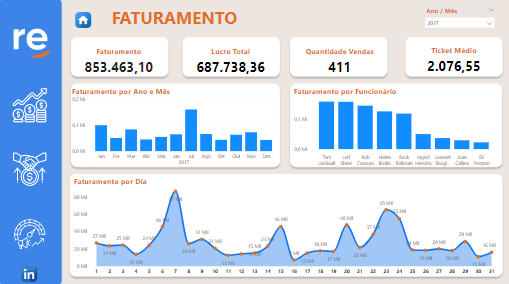

Layout of this report page (visuals, bound fields, positions):
{"tool":"powerbi","page":{"name":"Faturamento","canvas":[1280,720],"ordinal":1},"visuals":[{"type":"areaChart","fields":{"Category":["Dim_Calendario.Data.Variation.Hierarquia de datas.Dia"],"Y":["_Medidas.Faturamento"]},"box":[182.9,440.6,1067,254.9],"z":0},{"type":"slicer","fields":{"Values":["Dim_Calendario.Data.Variation.Hierarquia de datas.Ano","Dim_Calendario.MesNome"]},"box":[1055.5,10.1,194.4,79.2],"z":1000},{"type":"lineStackedColumnComboChart","title":"Faturamento por Ano e Mês","fields":{"Y":["_Medidas.Faturamento"],"Category":["Dim_Calendario.Data.Variation.Hierarquia de datas.Ano","Dim_Calendario.MesNome"]},"box":[182.9,216,515.5,208.8],"z":2000},{"type":"lineStackedColumnComboChart","title":"Faturamento por Funcionário","fields":{"Category":["DIM_FUNCIONARIOS.NomeFuncionario"],"Y":["_Medidas.Faturamento"]},"box":[733,216,517,208.8],"z":3000},{"type":"card","title":"Faturamento","fields":{"Values":["_Medidas.Faturamento"]},"box":[182.9,113.8,233.3,77.8],"z":4000},{"type":"card","title":"Lucro Total","fields":{"Values":["_Medidas.Custo"]},"box":[460.8,113.8,237.6,77.8],"z":5000},{"type":"card","title":"Quantidade Vendas","fields":{"Values":["_Medidas.Qtd Vendas"]},"box":[733,113.8,237.6,77.8],"z":6000},{"type":"card","title":"Ticket Médio","fields":{"Values":["_Medidas.Ticket Médio"]},"box":[1021.9,112.9,228.7,77.7],"z":7000},{"type":"textbox","box":[262.5,10.3,351.9,79.2],"z":8000},{"type":"image","box":[0,10.1,155.5,178.6],"z":9000},{"type":"image","box":[25.9,216,103.7,96.5],"z":10000},{"type":"image","box":[25.9,375.8,103.7,96.5],"z":11000},{"type":"image","box":[25.9,538.6,103.7,96.5],"z":12000},{"type":"image","box":[182.9,24.5,56.2,50.4],"z":13000},{"type":"image","box":[48.6,660,55.7,50],"z":13001}]}

Visuals, with their boxes in screenshot pixels (x1, y1, x2, y2), scaled from the page's 1280x720 canvas onto the 509x284 screenshot:
areaChart - Dim_Calendario.Data.Variation.Hierarquia de datas.Dia x _Medidas.Faturamento: <box>73,174,497,274</box>
slicer - Dim_Calendario.Data.Variation.Hierarquia de datas.Ano x Dim_Calendario.MesNome: <box>420,4,497,35</box>
"Faturamento por Ano e Mês" lineStackedColumnComboChart: <box>73,85,278,168</box>
"Faturamento por Funcionário" lineStackedColumnComboChart: <box>291,85,497,168</box>
"Faturamento" card: <box>73,45,166,76</box>
"Lucro Total" card: <box>183,45,278,76</box>
"Quantidade Vendas" card: <box>291,45,386,76</box>
"Ticket Médio" card: <box>406,45,497,75</box>
textbox: <box>104,4,244,35</box>
image: <box>0,4,62,74</box>
image: <box>10,85,52,123</box>
image: <box>10,148,52,186</box>
image: <box>10,212,52,251</box>
image: <box>73,10,95,30</box>
image: <box>19,260,41,280</box>
